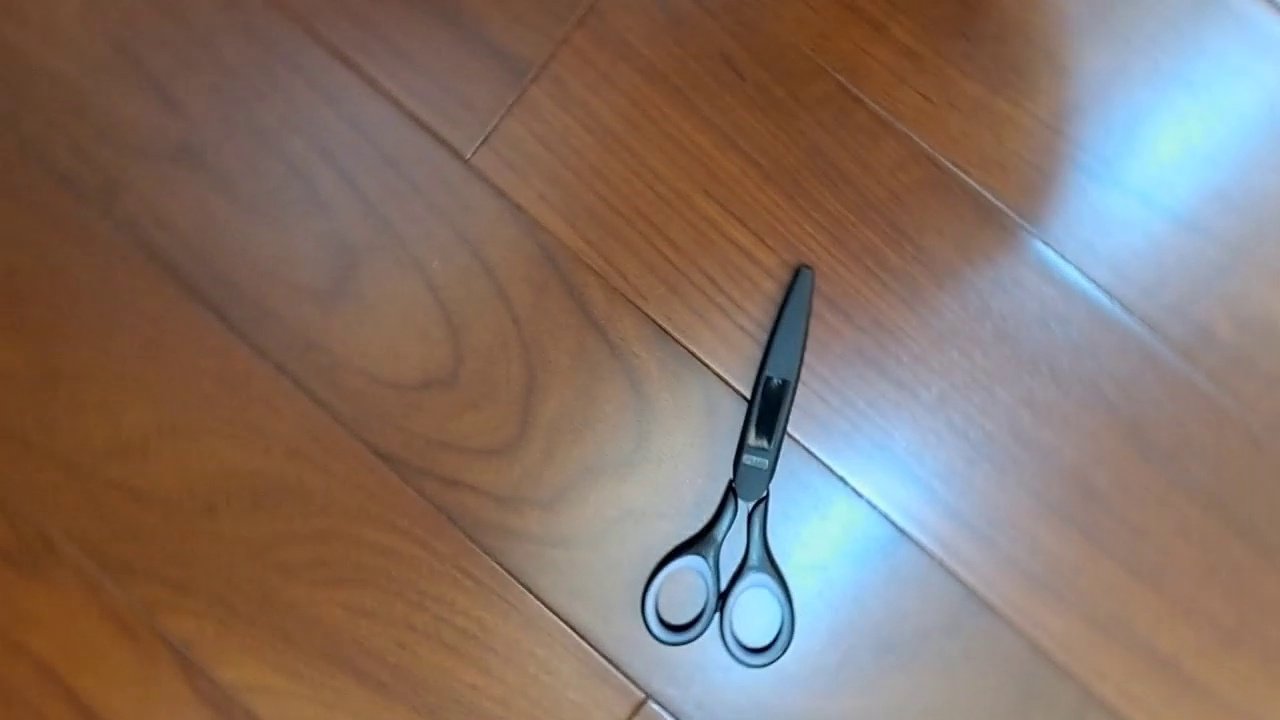scissors: (639, 260, 816, 669)
